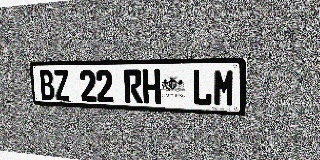2: (95, 70, 113, 103), (79, 70, 97, 102)
B: (39, 70, 56, 101)
H: (142, 70, 161, 104)
L: (192, 69, 213, 106)
M: (213, 69, 235, 107)
R: (124, 70, 142, 104)
Z: (53, 70, 70, 101)
